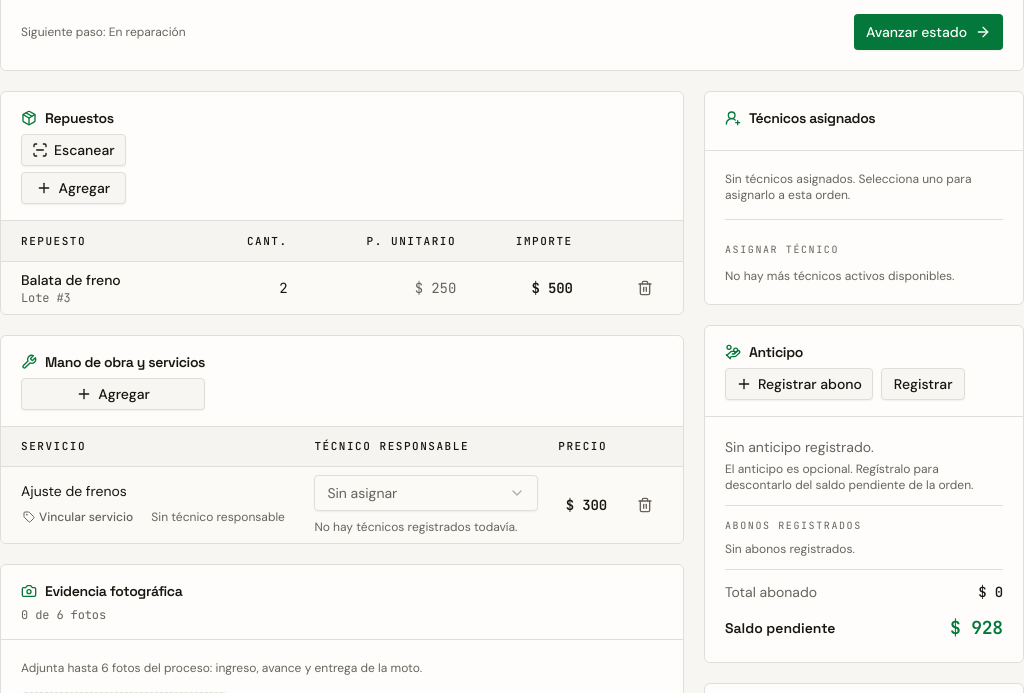
Test case: OrderDetailPage anticipo dialog seam (characterization) › starts empty and defaults to Efectivo when there is no advance
The width and height of the screenshot is (1024, 693).
(page scrolled)
Click the button with test id "order_detail.advance.edit_button": (923, 384) [881,368,966,400]
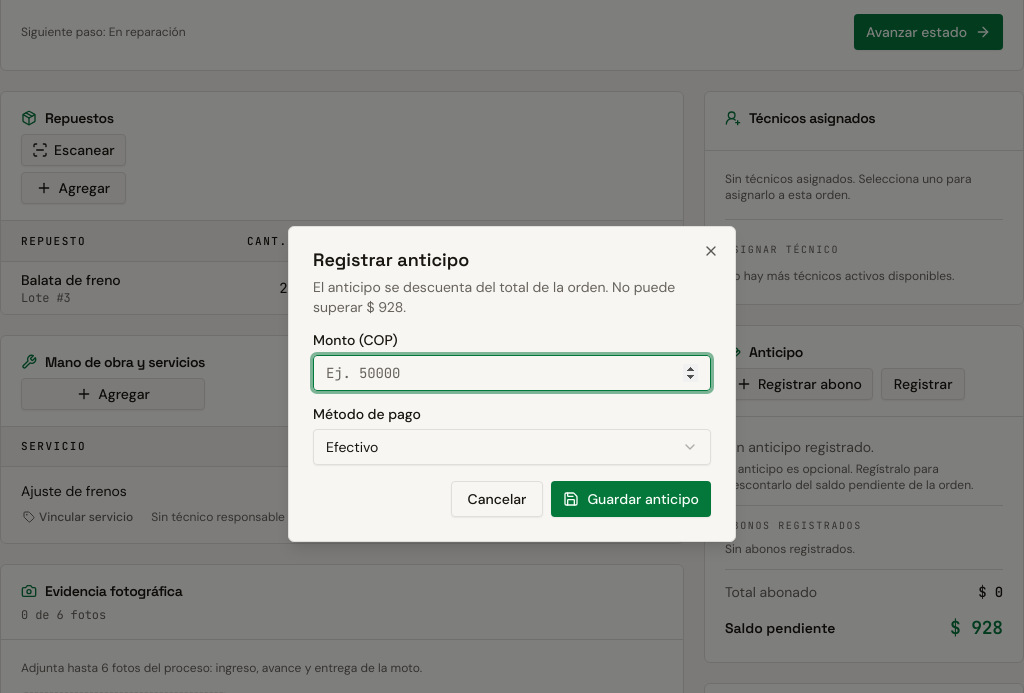
Expected: the number field with test id "order_detail.advance_dialog.amount_input" is not empty, [313,355,711,391]
Expected: the dropdown with test id "order_detail.advance_dialog.method_select" reads "Efectivo", [313,429,711,465]
Expected: the heading "Registrar anticipo" is shown, [313,248,469,271]
